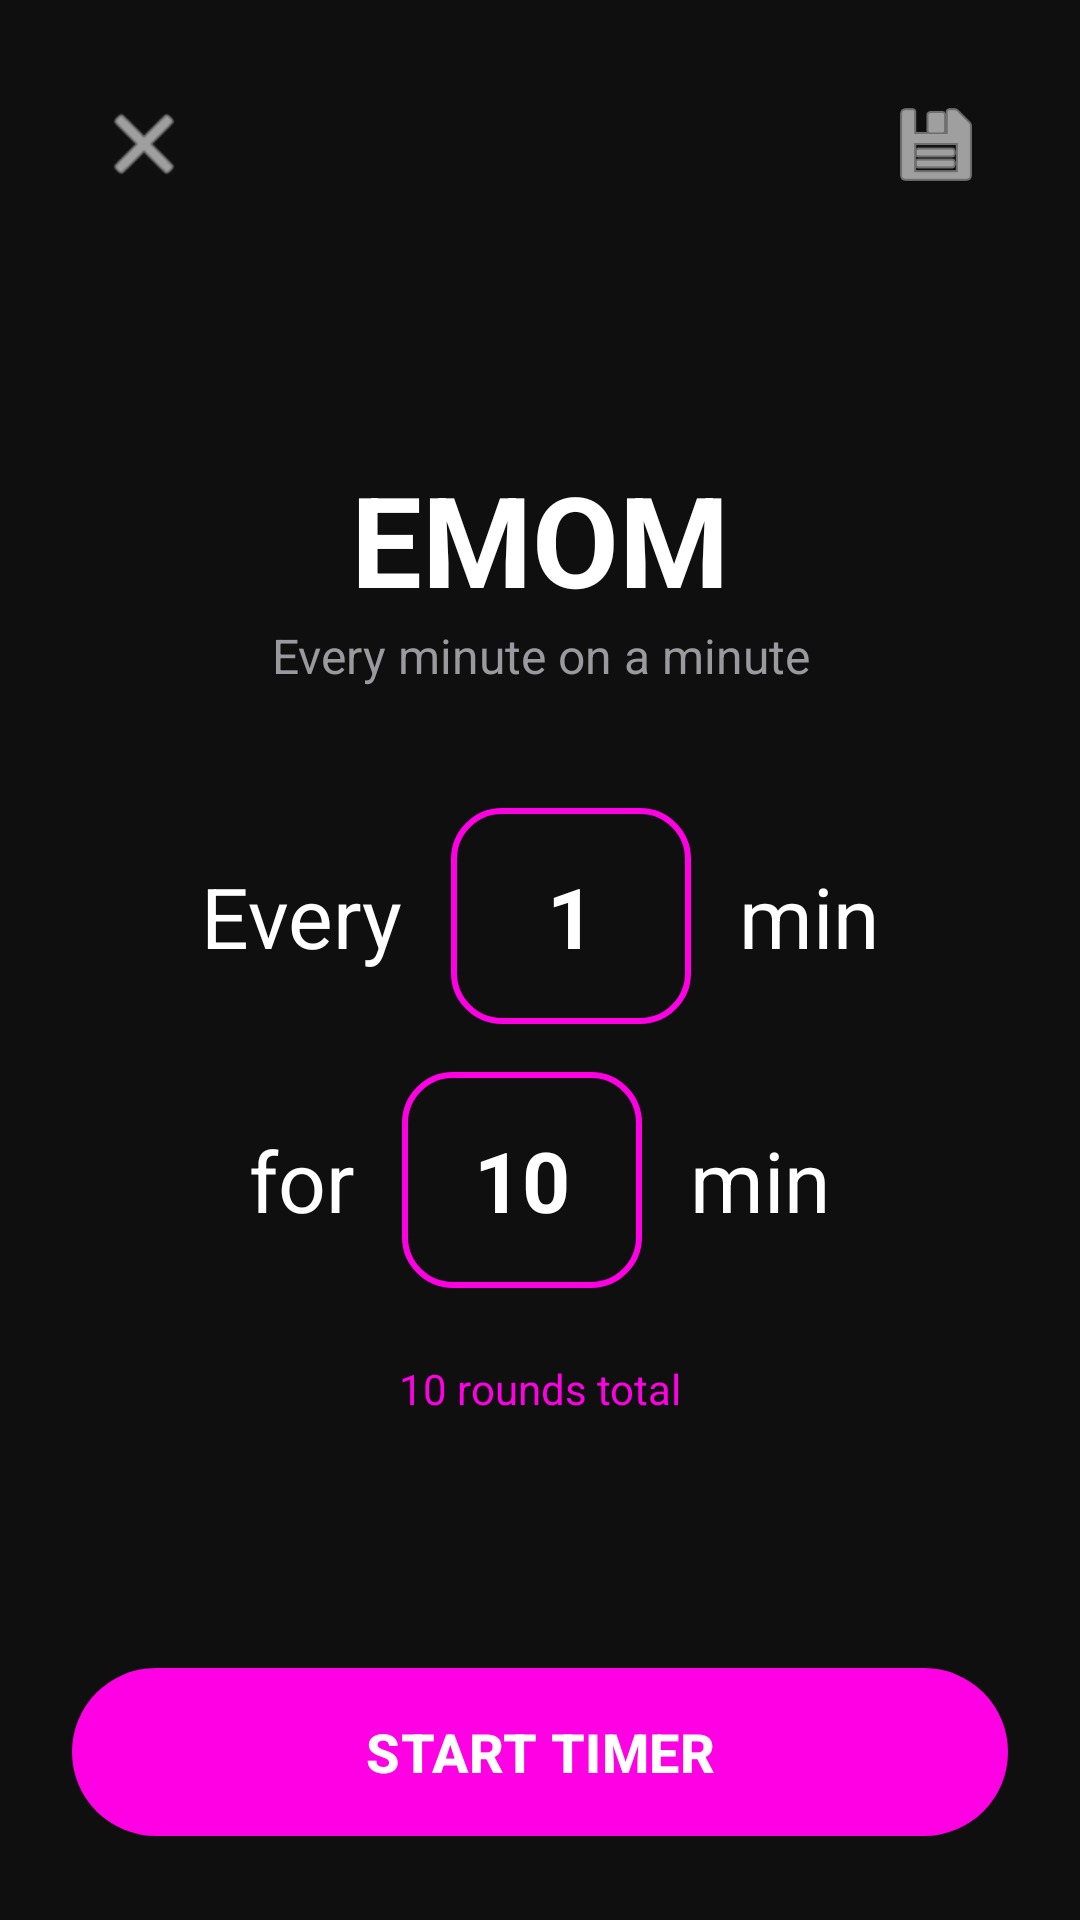

Where to tap for icons on this 1080×1920 app screen, as (x=x, y=y):
Save as preset: (x=936, y=144)
